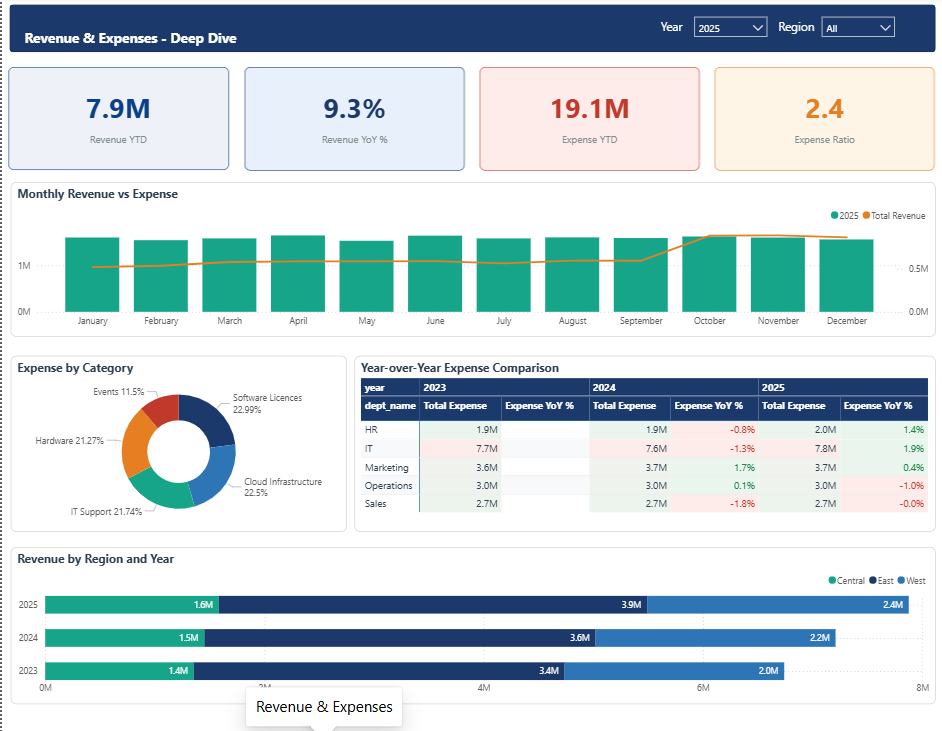

Layout of this report page (visuals, bound fields, positions):
{"tool":"powerbi","page":{"name":"Revenue & Expenses","canvas":[1280,1000],"ordinal":1},"visuals":[{"type":"shape","box":[9.8,11,1258.3,64.8],"z":0},{"type":"textbox","box":[25.4,37.1,441.4,40.4],"z":1000},{"type":"slicer","fields":{"Values":["production dim_date.year"]},"box":[935.5,22,108.8,44],"z":2000},{"type":"textbox","box":[890.2,24.5,62.4,33],"z":3000},{"type":"slicer","fields":{"Values":["production dim_region.region_name"]},"box":[1109.1,22,108.8,44],"z":4000},{"type":"textbox","box":[1049.2,24.5,62.4,33],"z":5000},{"type":"advanceCardE03760C5AB684758B56AA29F9E6C257B","fields":{"mainMeasure":["_Measures.Revenue YTD"]},"box":[9.2,95,300,140],"z":6000},{"type":"advanceCardE03760C5AB684758B56AA29F9E6C257B","fields":{"mainMeasure":["_Measures.Revenue YoY %"]},"box":[329.1,95,299.6,140.6],"z":7000},{"type":"advanceCardE03760C5AB684758B56AA29F9E6C257B","fields":{"mainMeasure":["_Measures.Expense YTD"]},"box":[648.5,95,299.6,140.6],"z":8000},{"type":"advanceCardE03760C5AB684758B56AA29F9E6C257B","fields":{"mainMeasure":["_Measures.Expense Ratio"]},"box":[967.9,95,299.6,140.6],"z":9000},{"type":"lineStackedColumnComboChart","title":"Monthly Revenue vs Expense","fields":{"Category":["production dim_date.month_name"],"Y":["_Measures.Total Expense"],"Y2":["_Measures.Total Revenue"],"Series":["production dim_date.year"]},"box":[11.9,251.4,1256.8,210.6],"z":10000},{"type":"donutChart","title":"Expense by Category","fields":{"Category":["production dim_category.category_name"],"Y":["_Measures.Total Expense"]},"box":[11.9,487.4,456.9,239.5],"z":11000},{"type":"pivotTable","title":"Year-over-Year Expense Comparison","fields":{"Rows":["production dim_department.dept_name"],"Columns":["production dim_date.year"],"Values":["_Measures.Total Expense","_Measures.Expense YoY %"]},"box":[478.9,487.4,789.7,239.5],"z":12000},{"type":"barChart","title":"Revenue by Region and Year","fields":{"Category":["production dim_date.year"],"Y":["_Measures.Total Revenue"],"Series":["production dim_region.region_name"]},"box":[11.9,747.3,1256.8,214],"z":13000}]}

Visuals, with their boxes in screenshot pixels (x1, y1, x2, y2), scaled from the page's 1280x1000 canvas onto the 942x731 screenshot:
shape: rect(7, 8, 933, 55)
textbox: rect(19, 27, 344, 57)
slicer - production dim_date.year: rect(688, 16, 769, 48)
textbox: rect(655, 18, 701, 42)
slicer - production dim_region.region_name: rect(816, 16, 896, 48)
textbox: rect(772, 18, 818, 42)
advanceCardE03760C5AB684758B56AA29F9E6C257B - _Measures.Revenue YTD: rect(7, 69, 228, 172)
advanceCardE03760C5AB684758B56AA29F9E6C257B - _Measures.Revenue YoY %: rect(242, 69, 463, 172)
advanceCardE03760C5AB684758B56AA29F9E6C257B - _Measures.Expense YTD: rect(477, 69, 698, 172)
advanceCardE03760C5AB684758B56AA29F9E6C257B - _Measures.Expense Ratio: rect(712, 69, 933, 172)
"Monthly Revenue vs Expense" lineStackedColumnComboChart: rect(9, 184, 934, 338)
"Expense by Category" donutChart: rect(9, 356, 345, 531)
"Year-over-Year Expense Comparison" pivotTable: rect(352, 356, 934, 531)
"Revenue by Region and Year" barChart: rect(9, 546, 934, 703)
